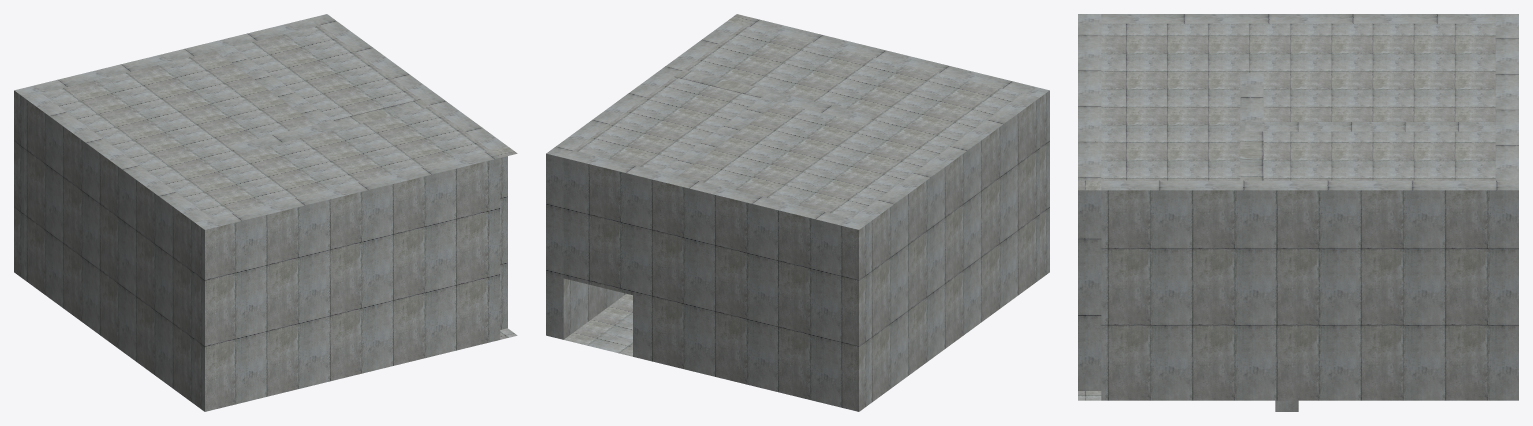
The model's file is Level_4.fbx.
The picture shows the model from 3 angles, left to right: view 1: azimuth 30°, elevation 25°; view 2: azimuth 150°, elevation 25°; view 3: azimuth 270°, elevation 25°; orthographic projection. The views are drawn at different scales.
Parts seen in each view (by area): view 1: Ground__1_.003; view 2: Ground__1_.003; view 3: Ground__1_.003.
Part boxes in pixels (x1=…): Ground__1_.003: x1=14, y1=14, x2=517, y2=411; Ground__1_.003: x1=546, y1=14, x2=1049, y2=411; Ground__1_.003: x1=1078, y1=14, x2=1518, y2=411.
Size of the model in its own units: 18 by 19 by 11.
